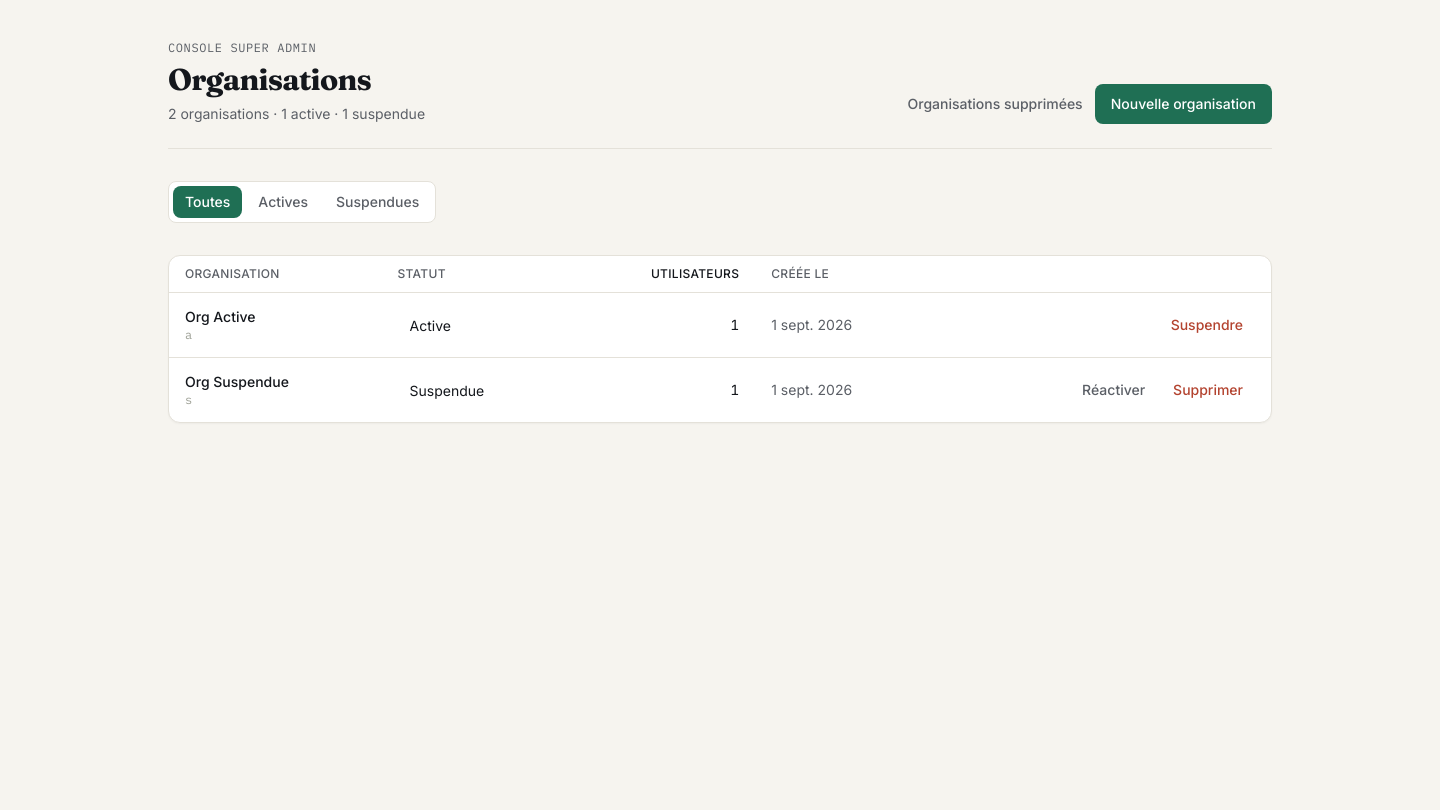
Scenario: Liste des organisations — actions › Suspendre ouvre une confirmation au lieu d'appeler l'API directement
Click the button "Suspendre" at (1207, 325), box top-left (1159, 309), bottom-right (1255, 341)
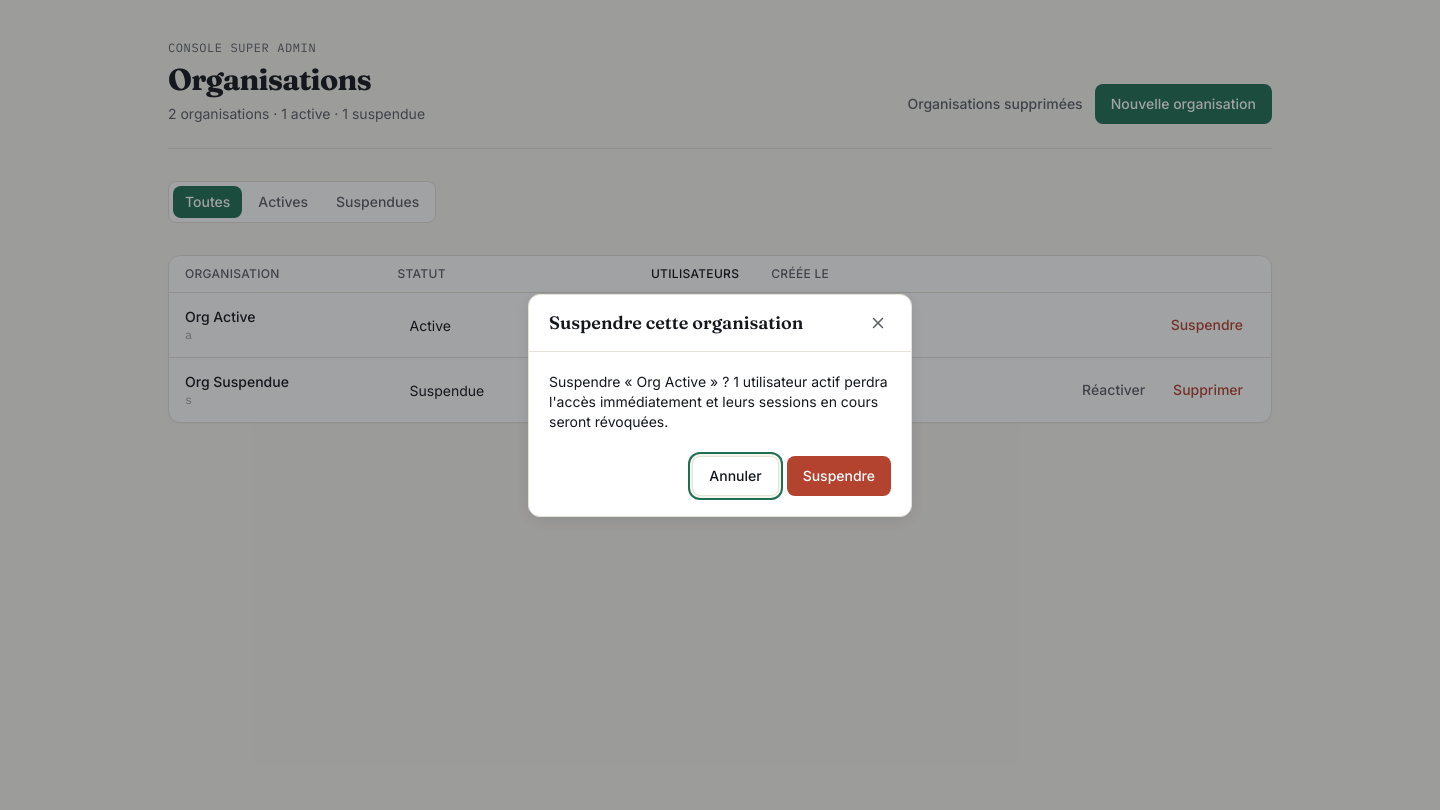
Now the heading "Suspendre cette organisation" is shown, box top-left (549, 308), bottom-right (803, 336)
